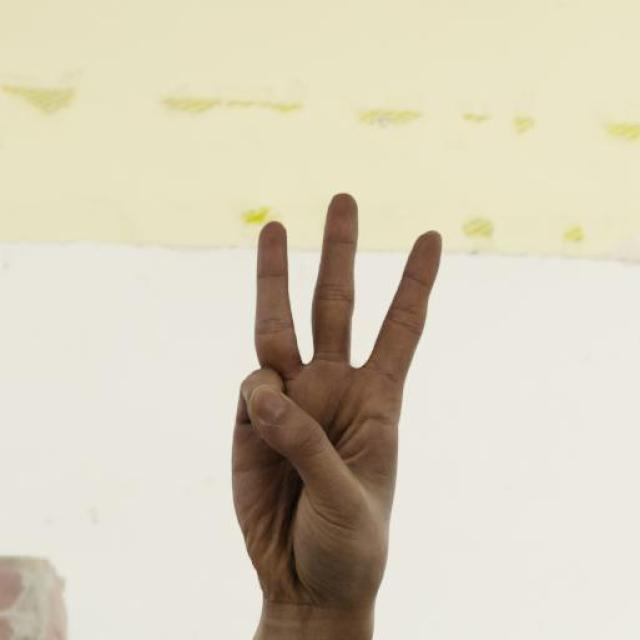W: (192, 177, 480, 640)
